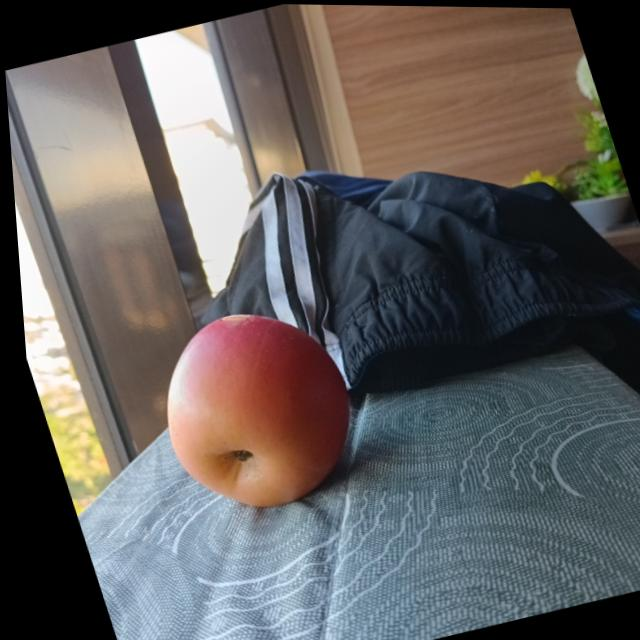apple: (129, 292, 371, 525)
